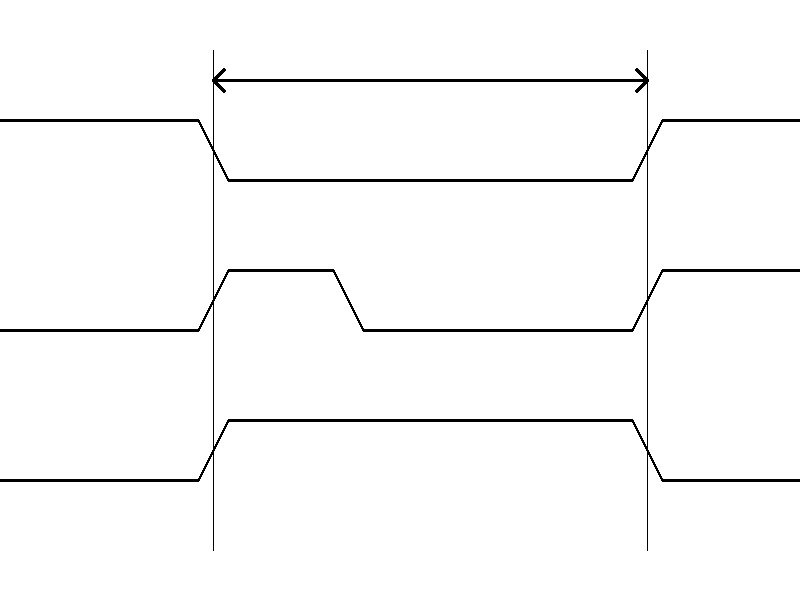double_arrow: (213, 65, 647, 95)
